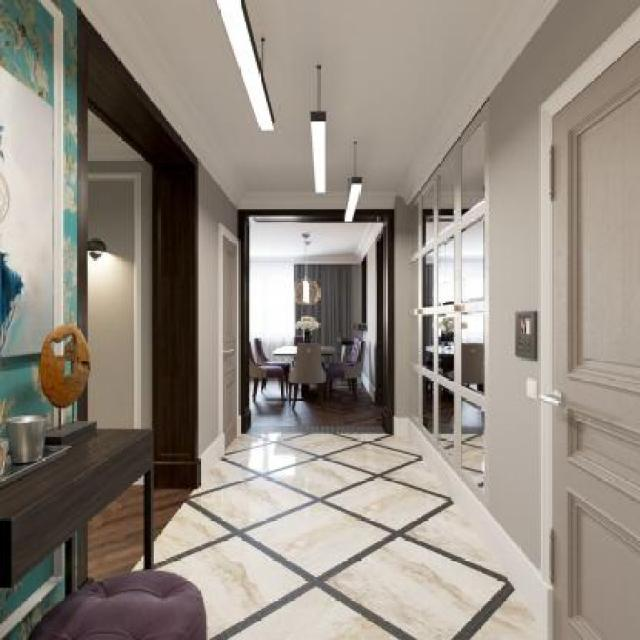Floor: (153, 376, 546, 640), (88, 484, 144, 582)
